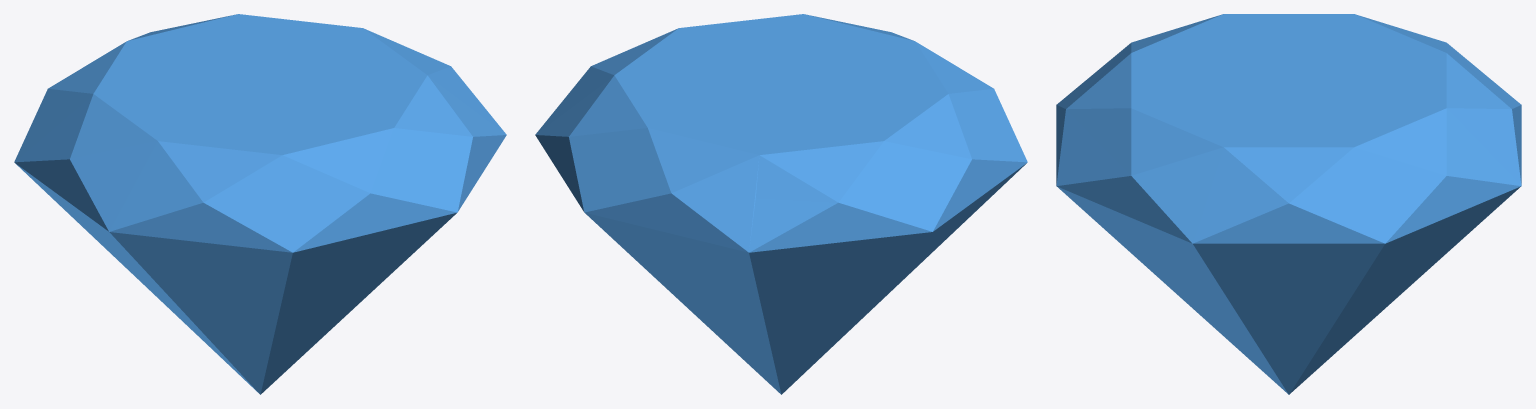
File: diamond.glb
The picture shows the model from 3 angles, left to right: view 1: azimuth 30°, elevation 25°; view 2: azimuth 150°, elevation 25°; view 3: azimuth 270°, elevation 25°; orthographic projection.
Parts seen in each view (by area): view 1: Default 150:150:150; view 2: Default 150:150:150; view 3: Default 150:150:150.
Part boxes in pixels (x1=…): Default 150:150:150: x1=14, y1=14, x2=506, y2=394; Default 150:150:150: x1=535, y1=14, x2=1027, y2=394; Default 150:150:150: x1=1056, y1=14, x2=1521, y2=394.
Size of the model in its own units: 0.1475 by 0.11 by 0.1475.
